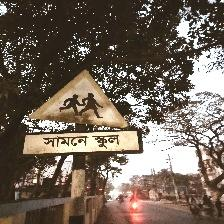School-in-front: (22, 68, 140, 156)
